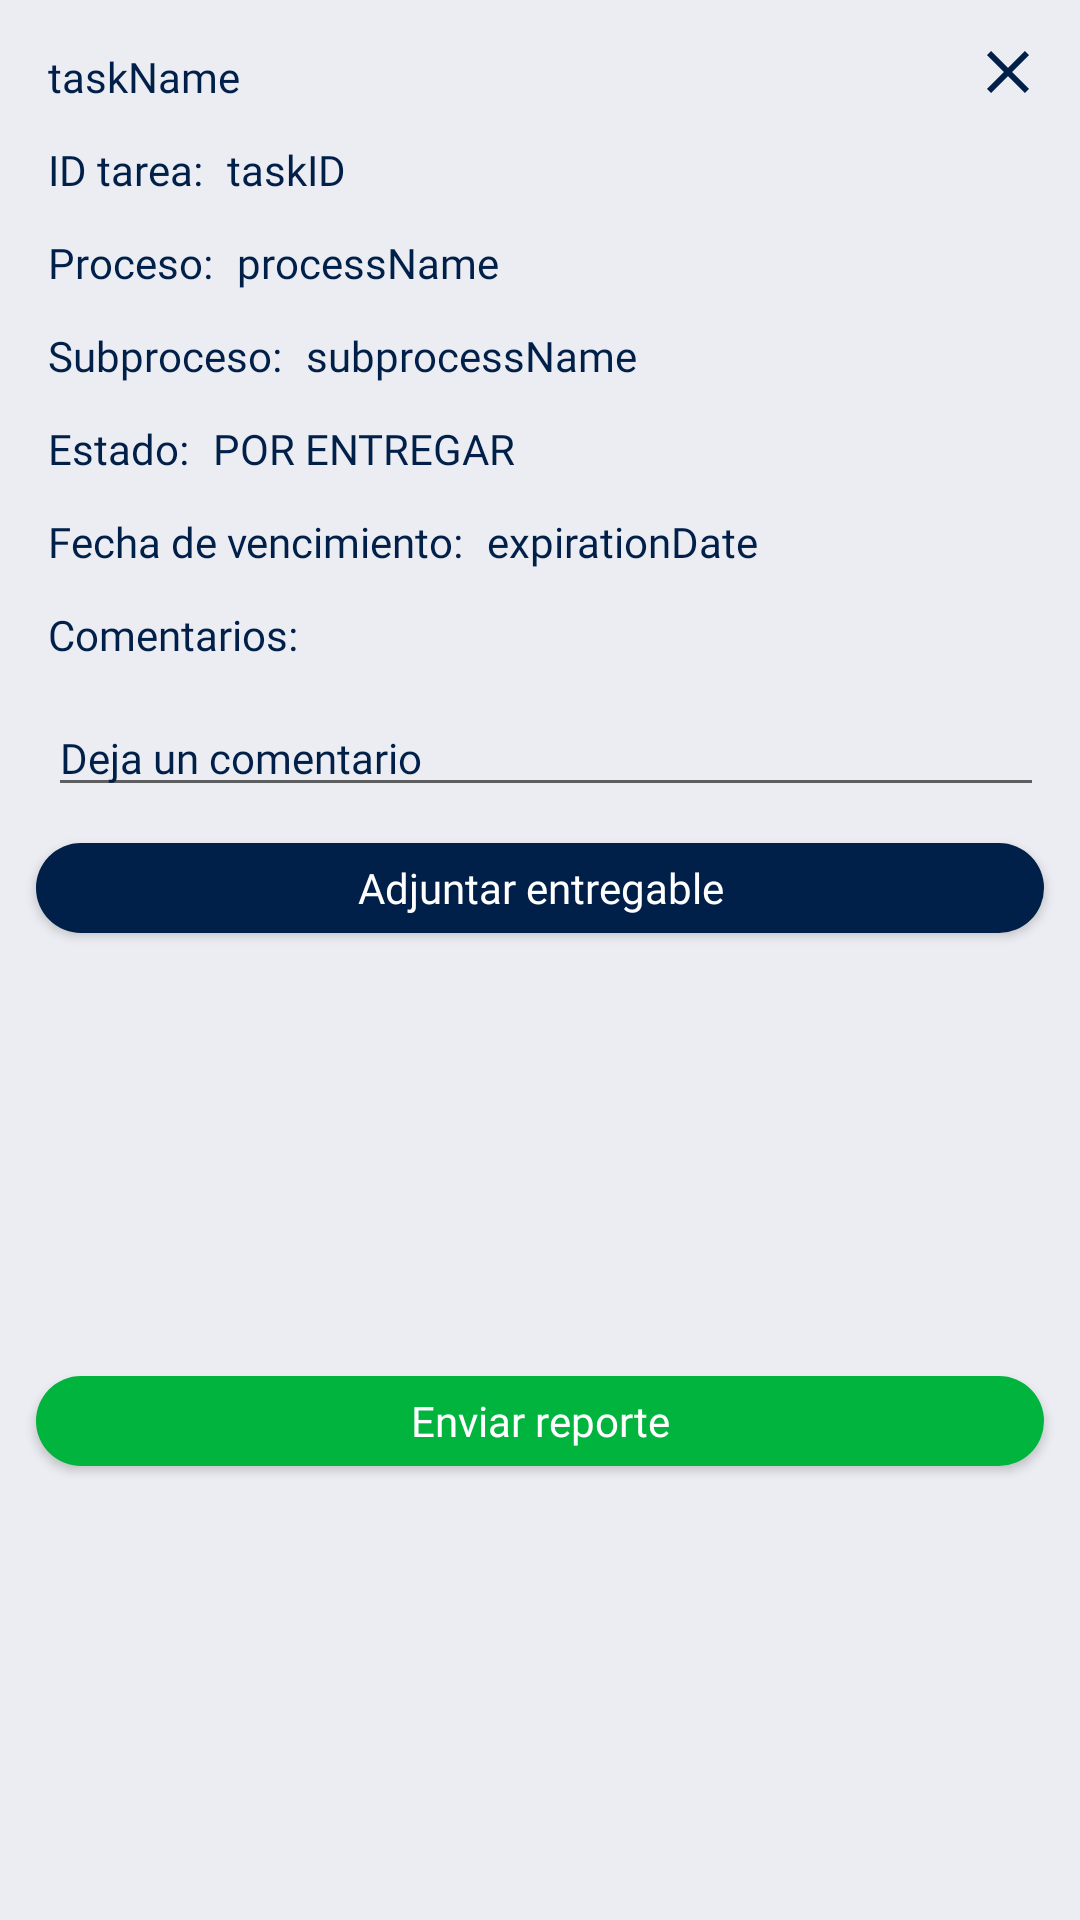

Where icons sit on this 1080px×1920px app screen, as box=[x1, y1, x2, y2]:
close: box=[987, 51, 1029, 93]
